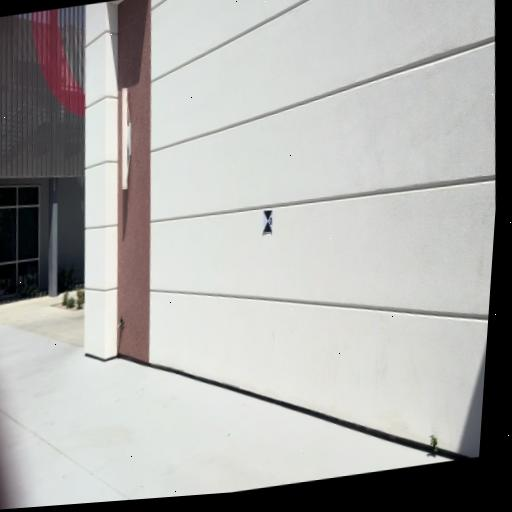target0: (263, 208, 273, 234)
